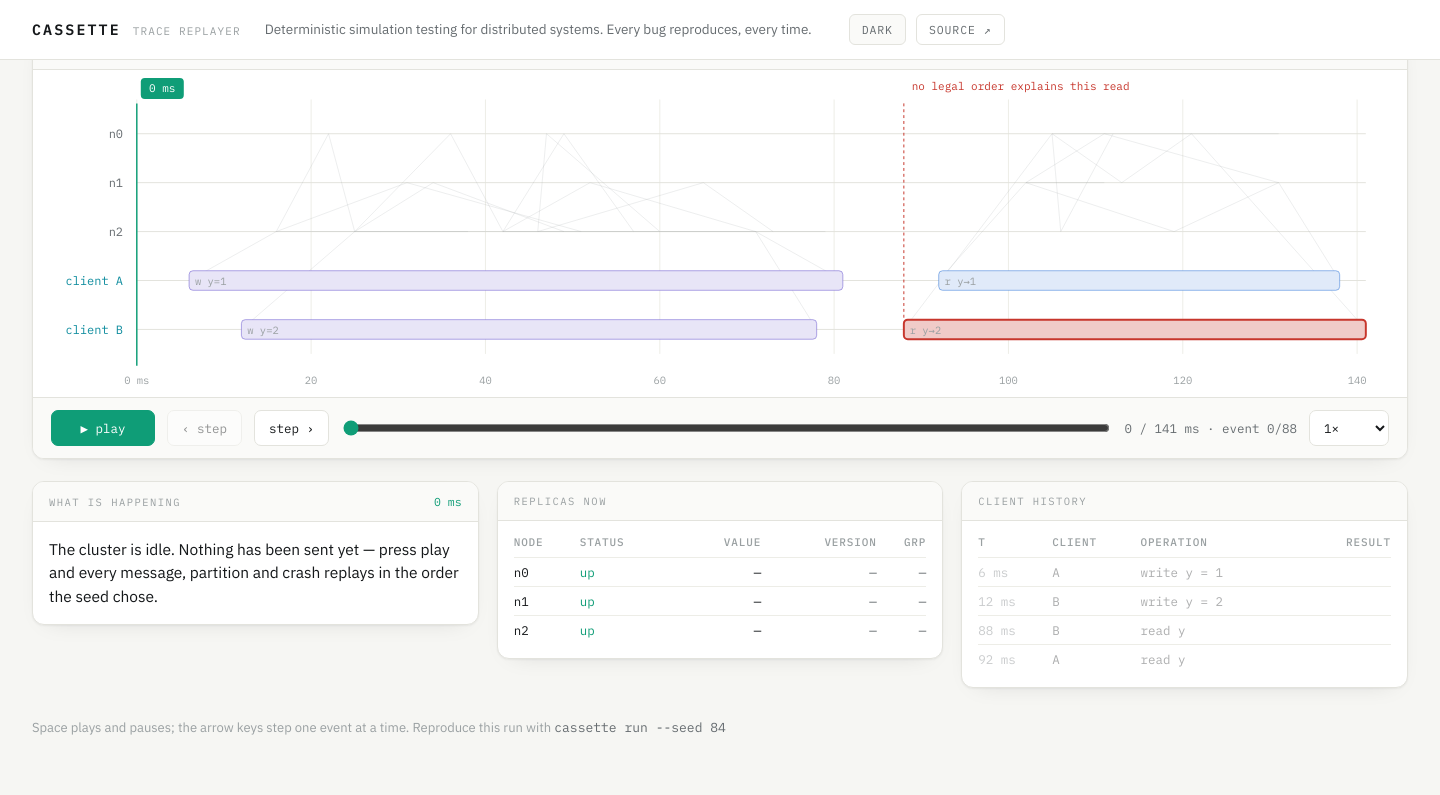
Test: App › raises an alert once the violating read has returned
The width and height of the screenshot is (1440, 795).
(page scrolled)
Expected: the picture with class "spacetime" is shown, [35,76,1405,395]
Set the slider named "Position in the run" to "10000" at (727, 428), box [343,420,1110,436]
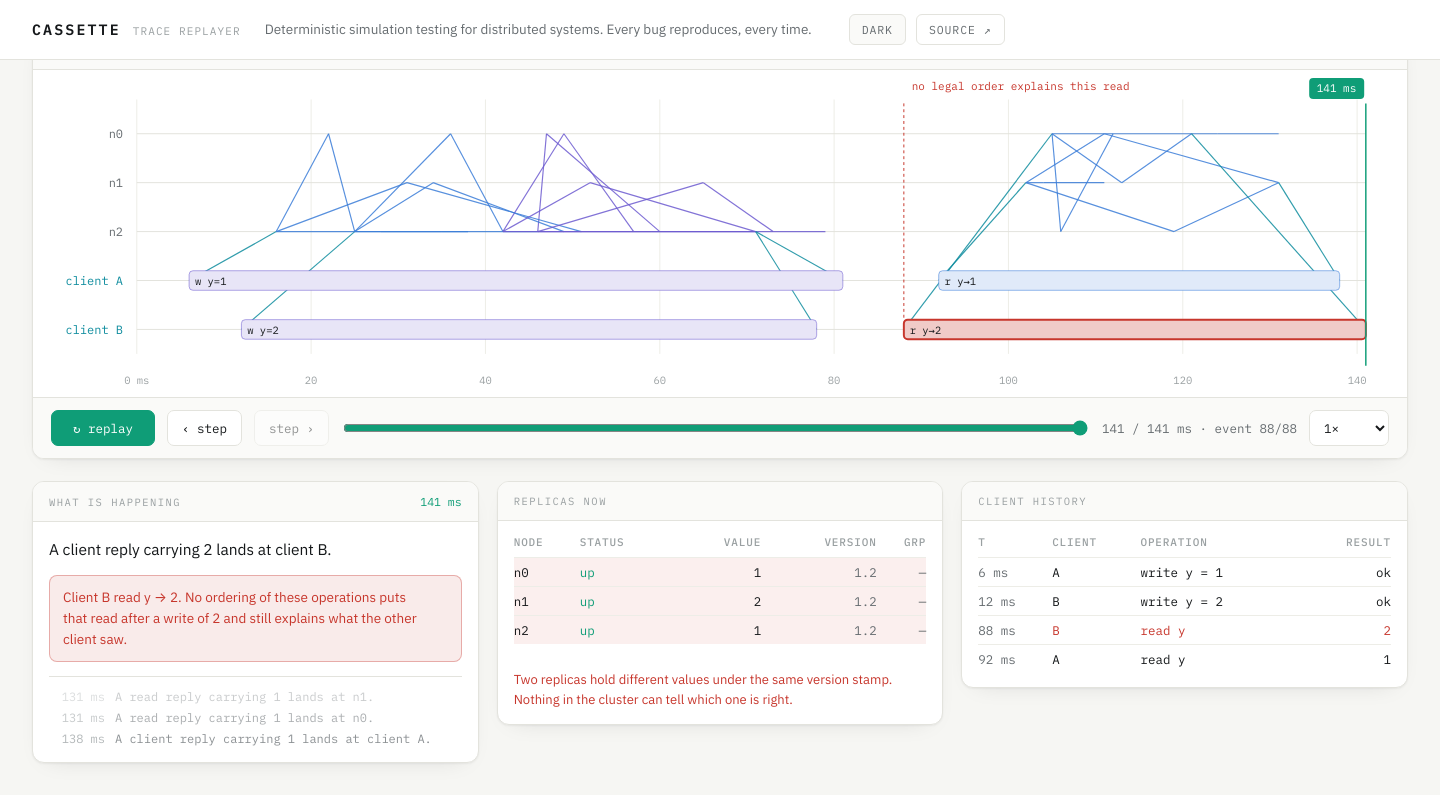
Expected: the text with class "alert" shows "No ordering", [63,588,417,648]
